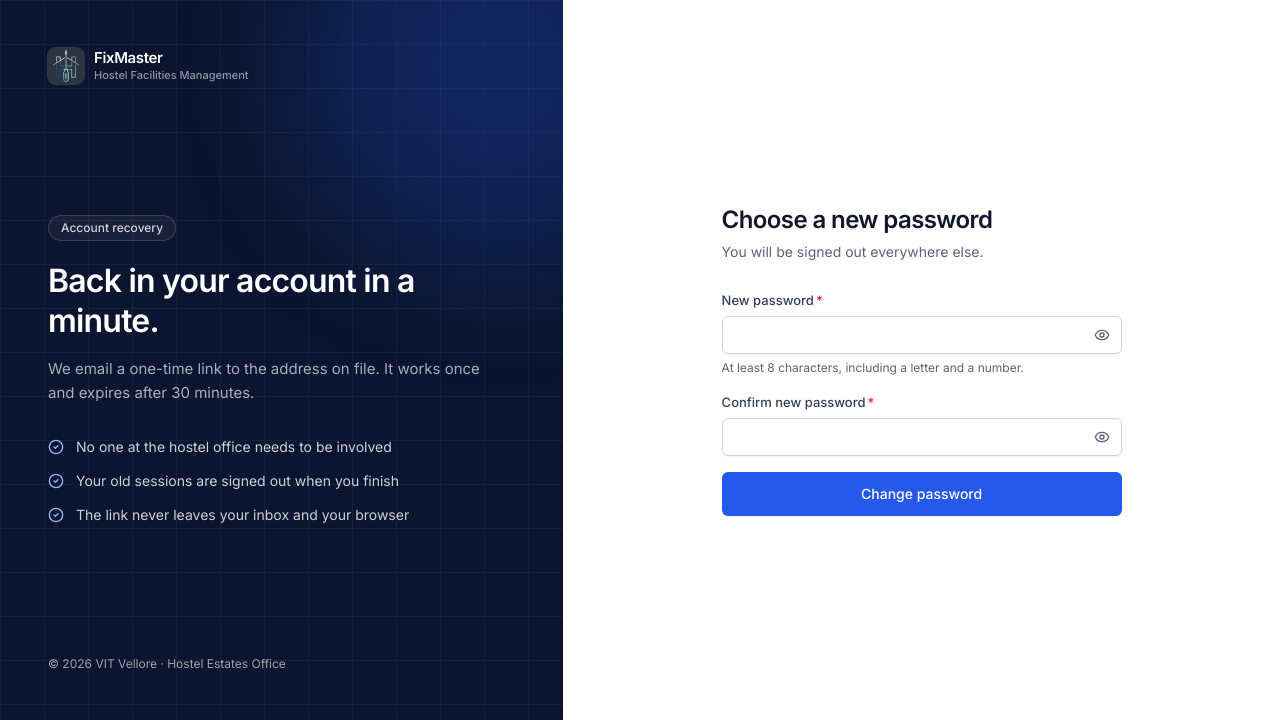
Test: password reset screens › offers a new link when the server says this one is no longer valid, and allows a retry
This screenshot has width=1280, height=720.
Type "Corridor7Lamp" into the password field labelled "New password*" at x=922, y=335, box [722,316,1122,354]
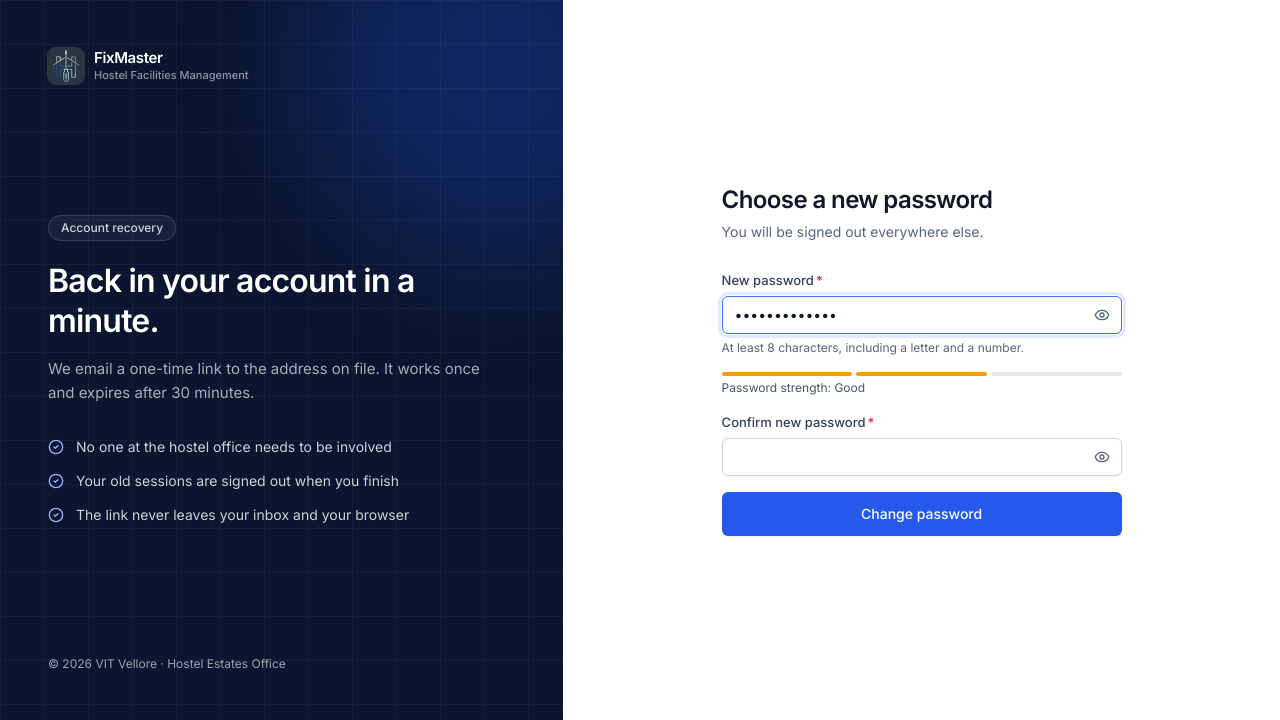
Type "Corridor7Lamp" into the password field labelled "Confirm new password*" at x=922, y=457, box [722,438,1122,476]
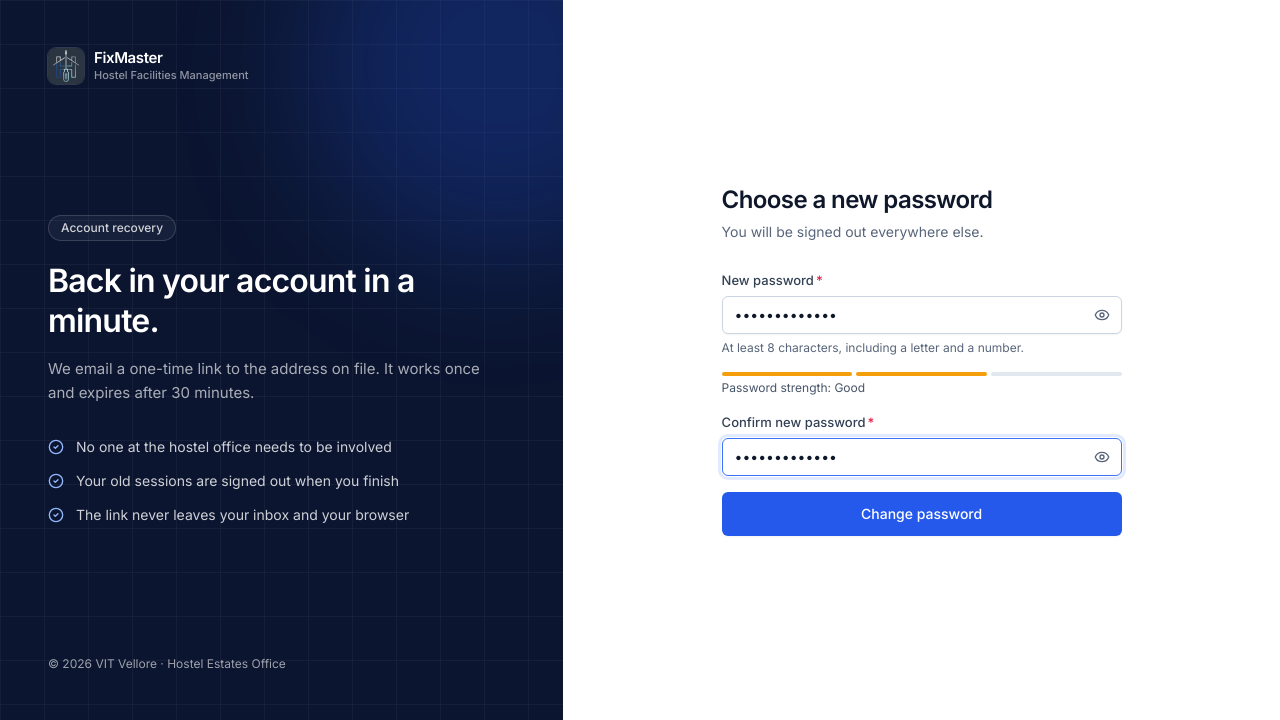
Click the button "Change password" at x=922, y=514, box [722,492,1122,536]
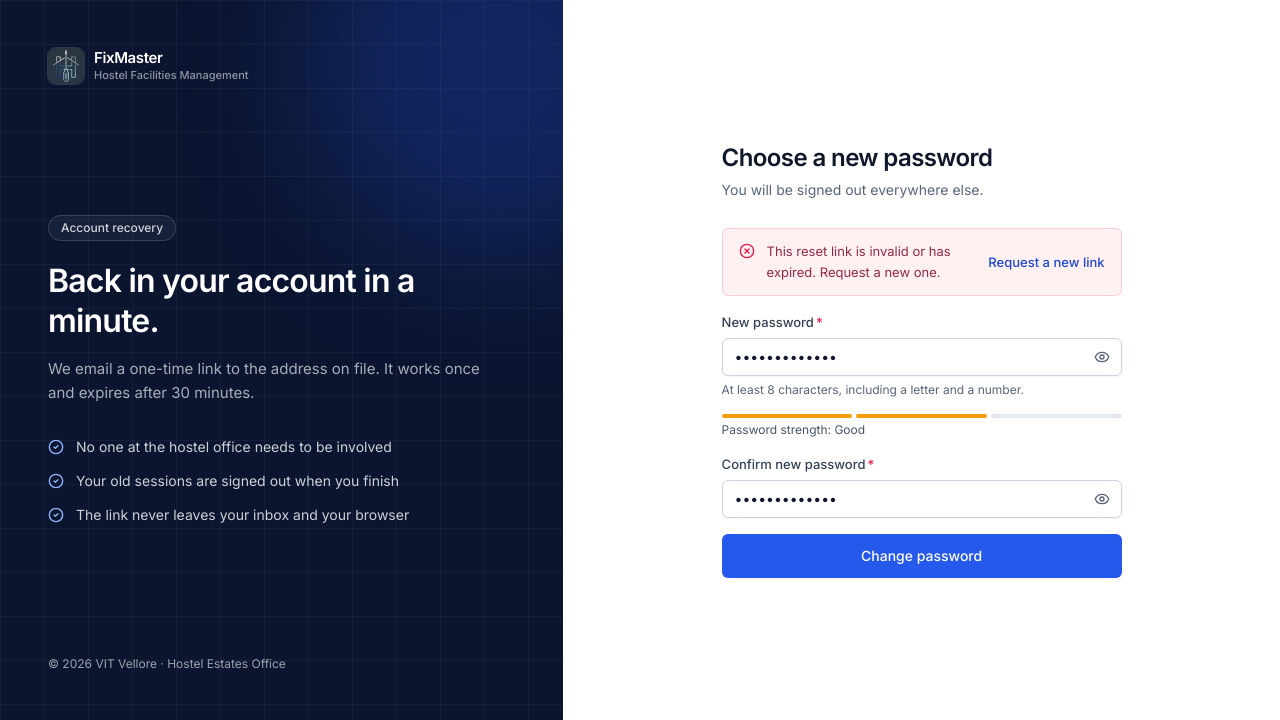
Expected: the button "Change password" is enabled, [722,534,1122,578]
Now the link "Request a new link" is shown, box [988,254,1105,270]
